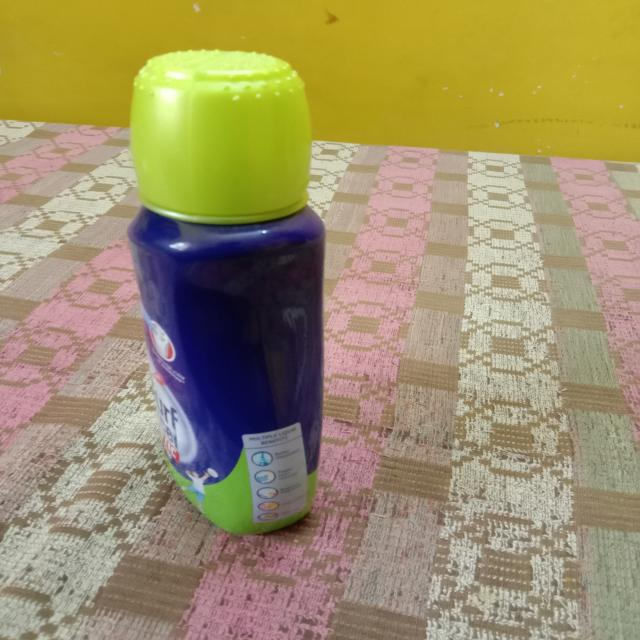detergent: (91, 39, 362, 541)
